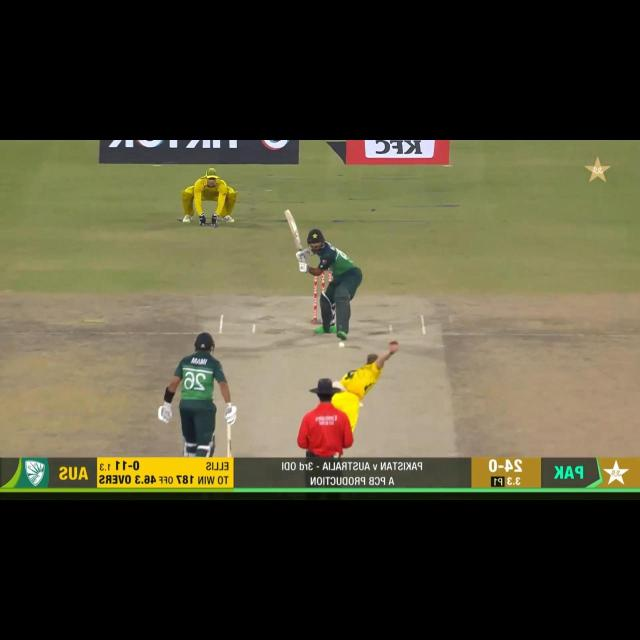bat: (282, 208, 302, 250), (227, 427, 232, 457)
toe: (283, 207, 293, 224)
